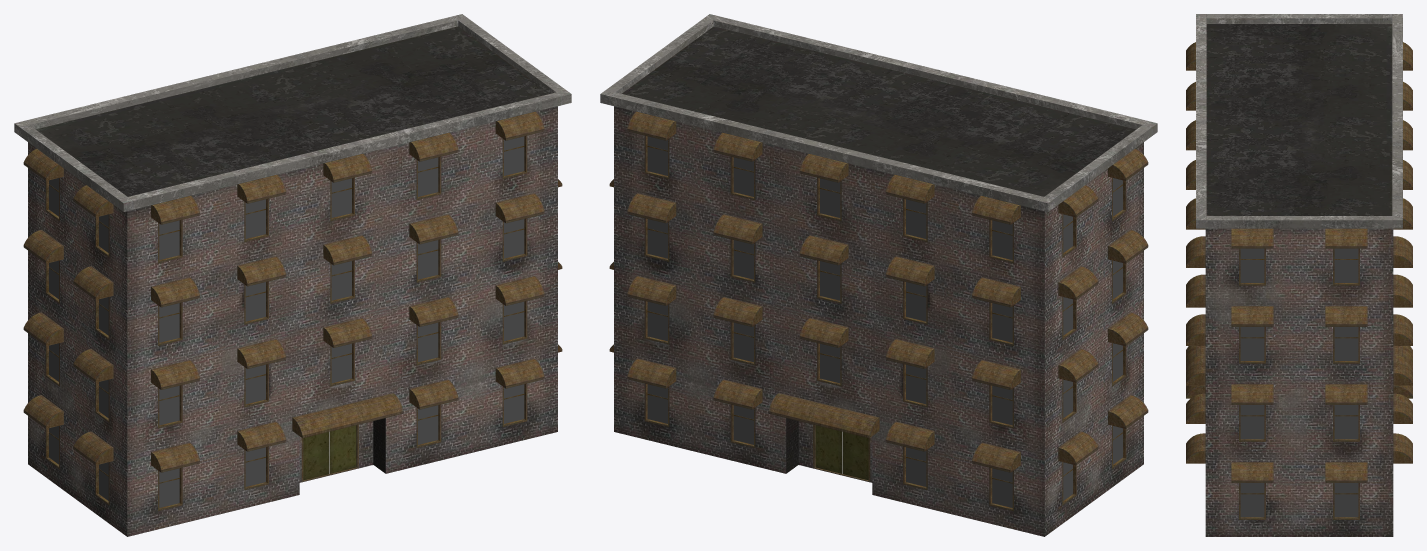
Rendered from cx_oldap.adbd309dd6.glb.
The picture shows the model from 3 angles, left to right: view 1: azimuth 30°, elevation 25°; view 2: azimuth 150°, elevation 25°; view 3: azimuth 270°, elevation 25°; orthographic projection. The views are drawn at different scales.
Visible parts, largest first — view 1: Material2 (×2); view 2: Material2 (×2); view 3: Material2 (×2).
Part boxes in pixels (x1,y1,x2,y2): Material2 (×2): [14, 14, 571, 536]; Material2 (×2): [600, 14, 1157, 536]; Material2 (×2): [1186, 14, 1412, 536].
Bounding box in the file's own units: 651 × 453 × 290.
2 materials, 1 textured.
